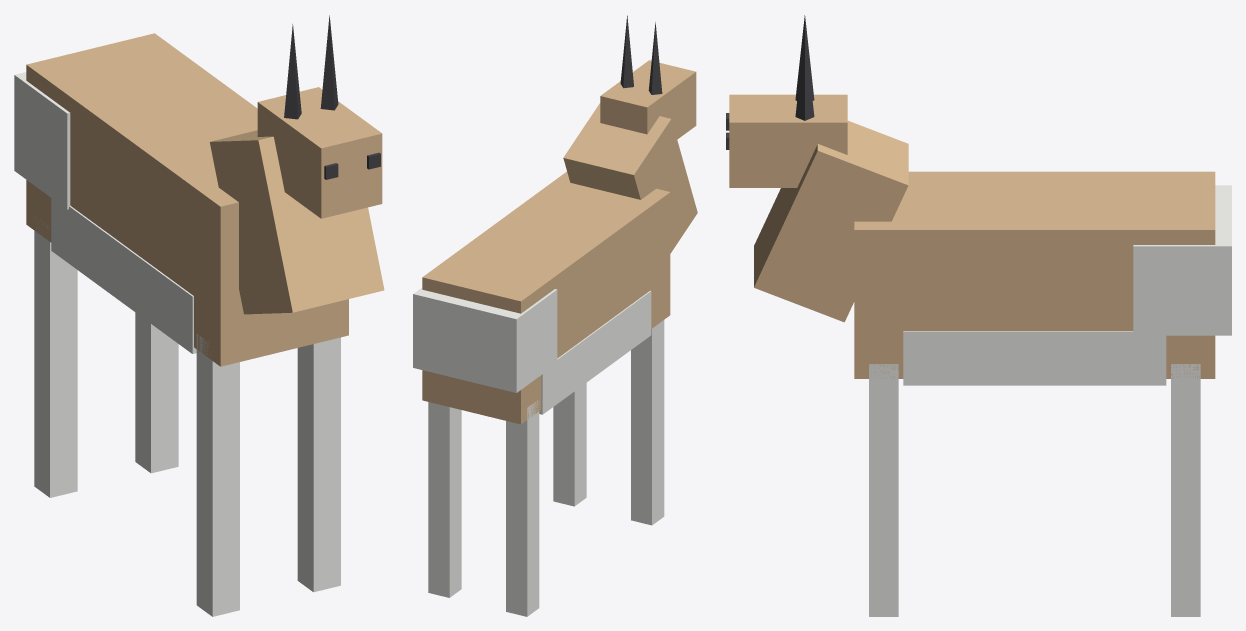
Rendered from pronghorn.glb.
The picture shows the model from 3 angles, left to right: view 1: azimuth 30°, elevation 25°; view 2: azimuth 150°, elevation 25°; view 3: azimuth 270°, elevation 25°; orthographic projection. The views are drawn at different scales.
Visible parts, largest first — view 1: pronghorn; view 2: pronghorn; view 3: pronghorn.
Part boxes in pixels (x1,y1,x2,y2): pronghorn: (14, 15, 384, 616); pronghorn: (413, 15, 697, 616); pronghorn: (726, 15, 1231, 616).
Bounding box in the file's own units: 0.44 × 1.9 × 1.54.
